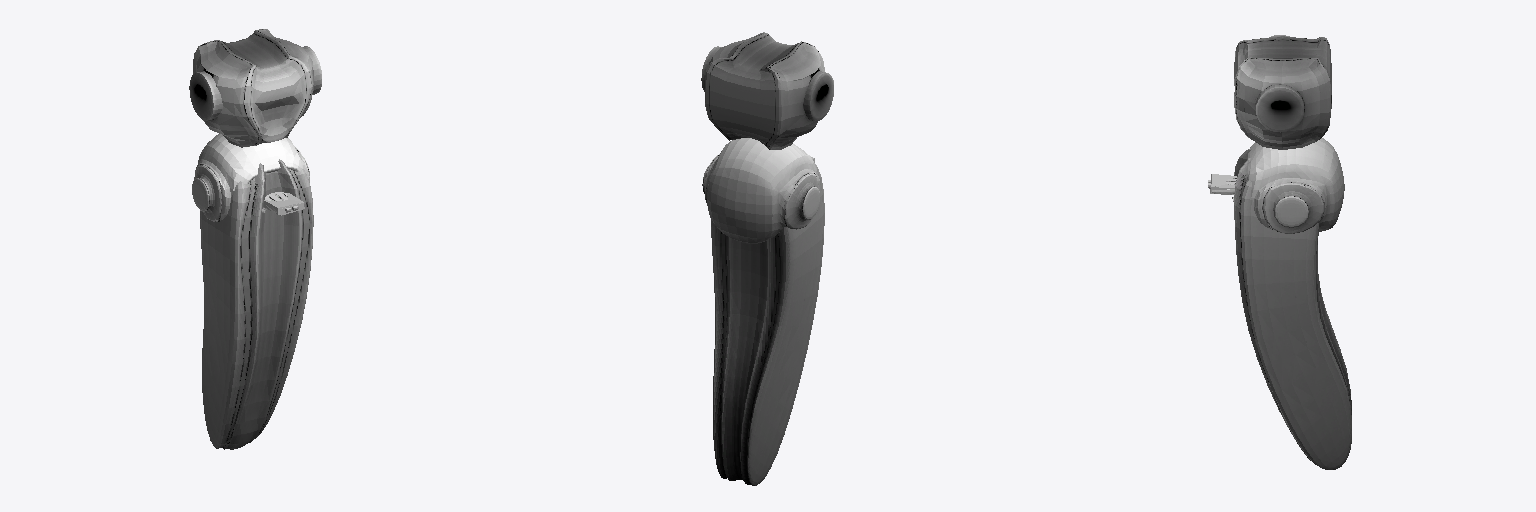
3 renders of one model, left to right at view 1: azimuth 30°, elevation 25°; view 2: azimuth 150°, elevation 25°; view 3: azimuth 270°, elevation 25°, orthographic.
Visible parts, largest first — view 1: Body, BodyGlow, Head, HeadGlow; view 2: Body, Head, BodyGlow, HeadGlow; view 3: Body, Head, BodyGlow, HeadGlow.
Boxes of the visible parts, x1=… form: Body: x1=193, y1=29, x2=313, y2=449; BodyGlow: x1=189, y1=29, x2=321, y2=449; Head: x1=192, y1=134, x2=309, y2=221; HeadGlow: x1=194, y1=147, x2=308, y2=221; Body: x1=709, y1=33, x2=824, y2=485; Head: x1=702, y1=138, x2=819, y2=243; BodyGlow: x1=701, y1=32, x2=833, y2=471; HeadGlow: x1=703, y1=154, x2=818, y2=229; Body: x1=1234, y1=36, x2=1351, y2=469; Head: x1=1248, y1=138, x2=1344, y2=231; BodyGlow: x1=1234, y1=35, x2=1331, y2=464; HeadGlow: x1=1263, y1=182, x2=1323, y2=233.
Size of the model in its own units: 0.3484 by 1.26 by 0.3975.
3 materials, 2 textured.